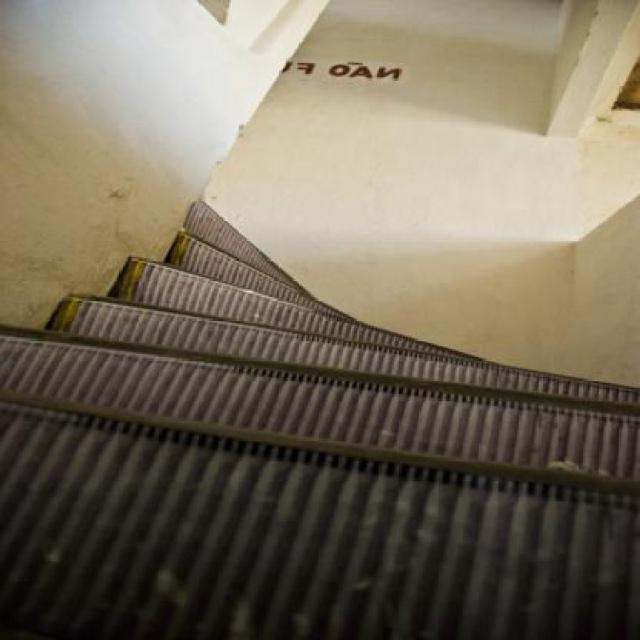stair: (2, 198, 640, 638)
